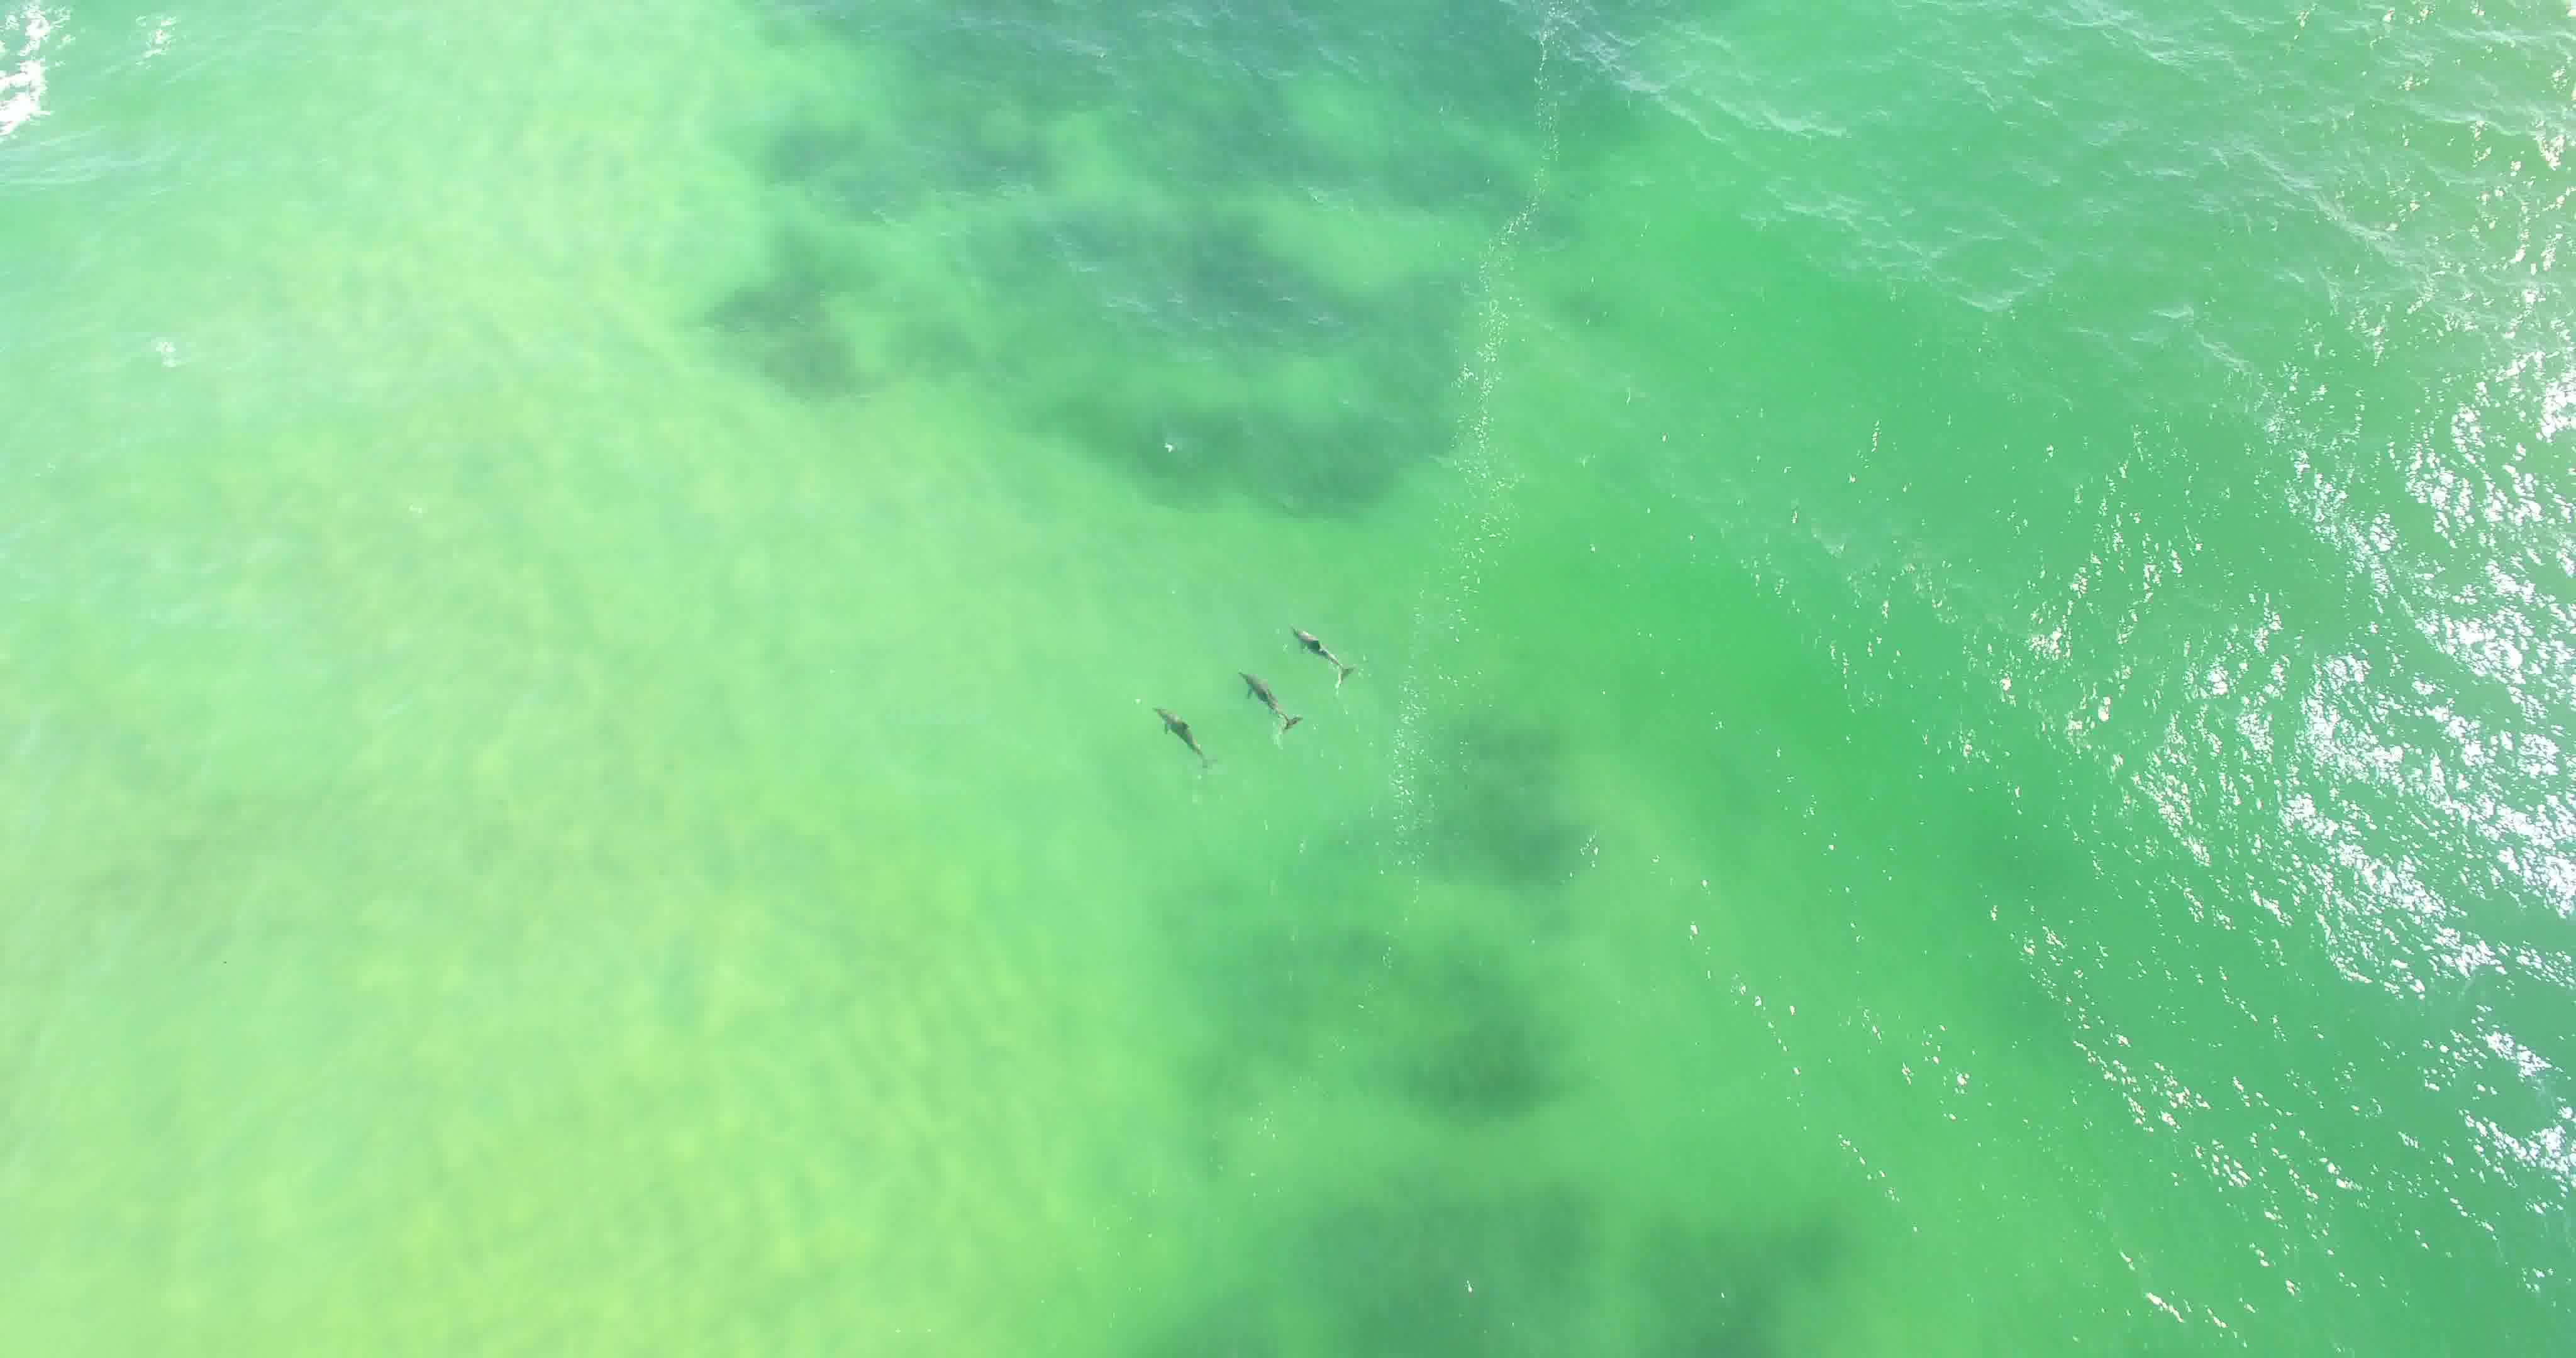dolphin: (1262, 593, 1375, 704), (1211, 661, 1319, 750), (1133, 692, 1225, 789)
